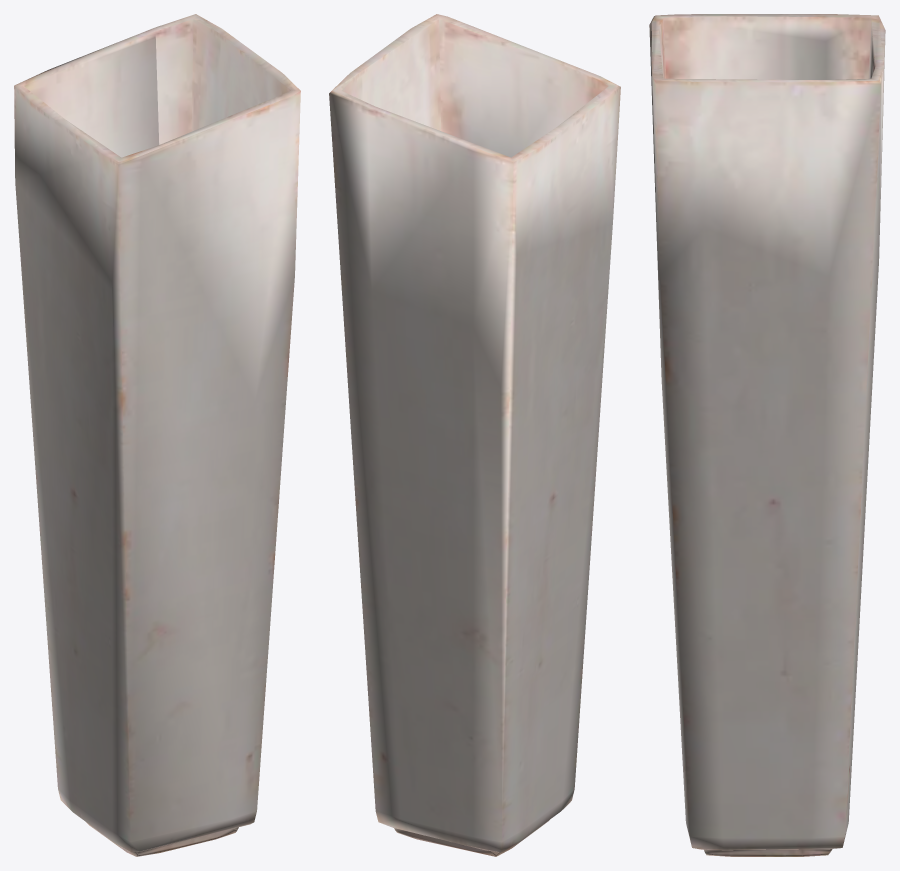
Rendered from ceramic_vase_03.glb.
3 renders of one model, left to right at view 1: azimuth 30°, elevation 25°; view 2: azimuth 150°, elevation 25°; view 3: azimuth 270°, elevation 25°, orthographic. The views are drawn at different scales.
Parts seen in each view (by area): view 1: ceramic_vase_03; view 2: ceramic_vase_03; view 3: ceramic_vase_03.
Part boxes in pixels (bbox=[...]): ceramic_vase_03: bbox=[14, 14, 300, 856]; ceramic_vase_03: bbox=[329, 14, 620, 856]; ceramic_vase_03: bbox=[649, 14, 885, 856].
Size of the model in its own units: 0.1096 by 0.4143 by 0.1113.
1 material, 1 textured.
